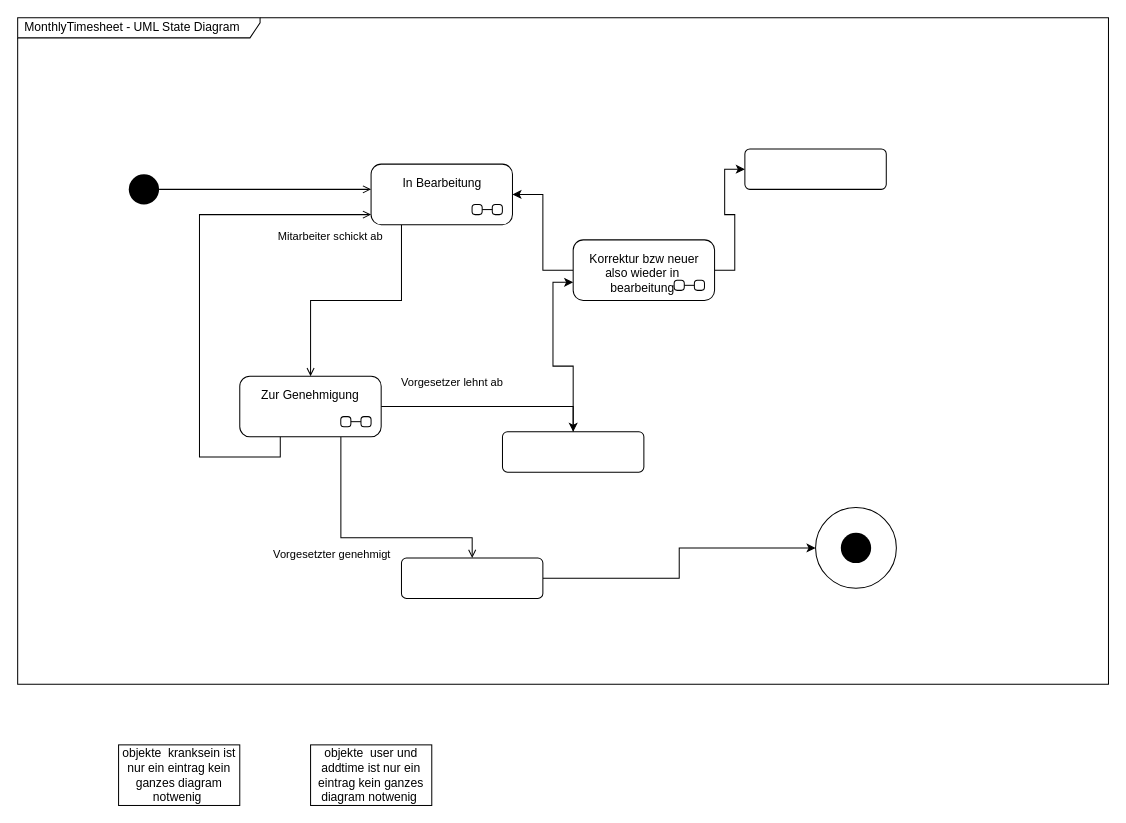
The diagram is 1126 pixels wide and 823 high, and some of its shapes have lost their labels. The shapes that lost their labels are listed below. From the top down, each one's centre as x and y in pixels, then its label:
At point (815, 168): "löschen".
At point (572, 451): "Abgelehnt".
At point (471, 577): "Genehmigt".
